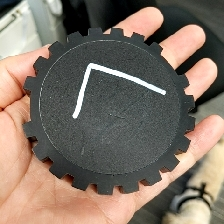gear: (21, 26, 197, 197)
missing: (148, 39, 191, 90), (22, 74, 39, 141)
